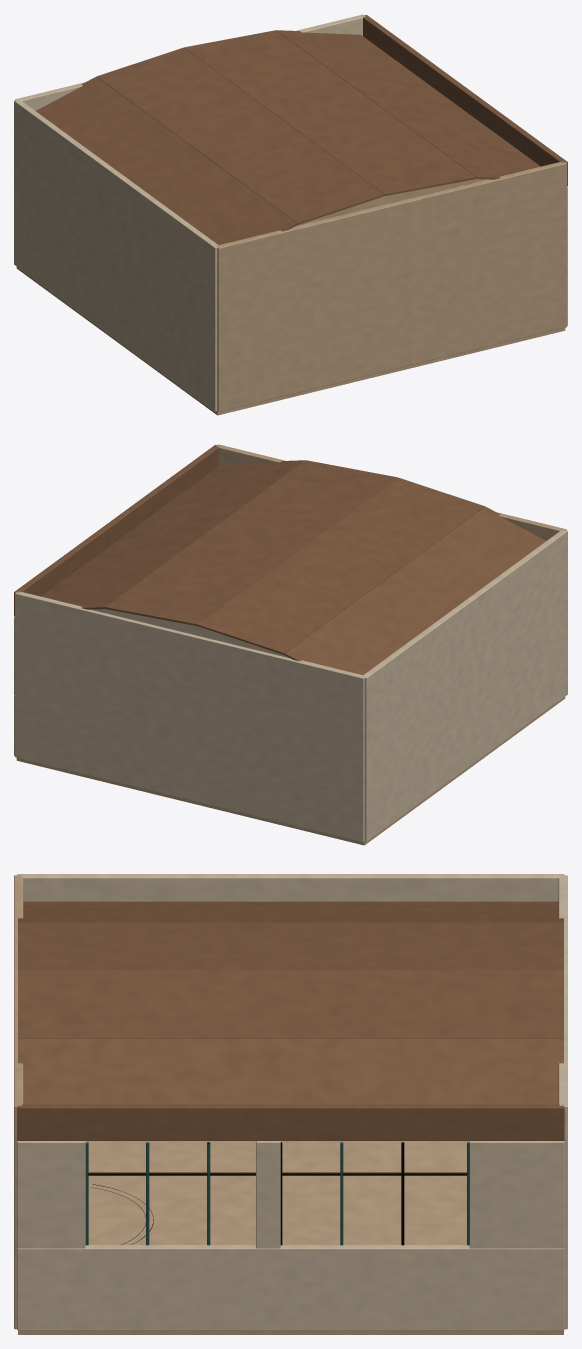
Rendered from tower.glb.
The picture shows the model from 3 angles, top to bottom: view 1: azimuth 30°, elevation 25°; view 2: azimuth 150°, elevation 25°; view 3: azimuth 270°, elevation 25°; orthographic projection. The views are drawn at different scales.
Visible parts, largest first — view 1: VIS · Listening tower; view 2: VIS · Listening tower; view 3: VIS · Listening tower.
Part boxes in pixels (box(x1,y1,x2,y2)): VIS · Listening tower: box(14, 14, 567, 415); VIS · Listening tower: box(14, 444, 567, 845); VIS · Listening tower: box(14, 874, 567, 1334).
Size of the model in its own units: 11.98 by 5.85 by 11.98.
10 materials, 10 textured.
